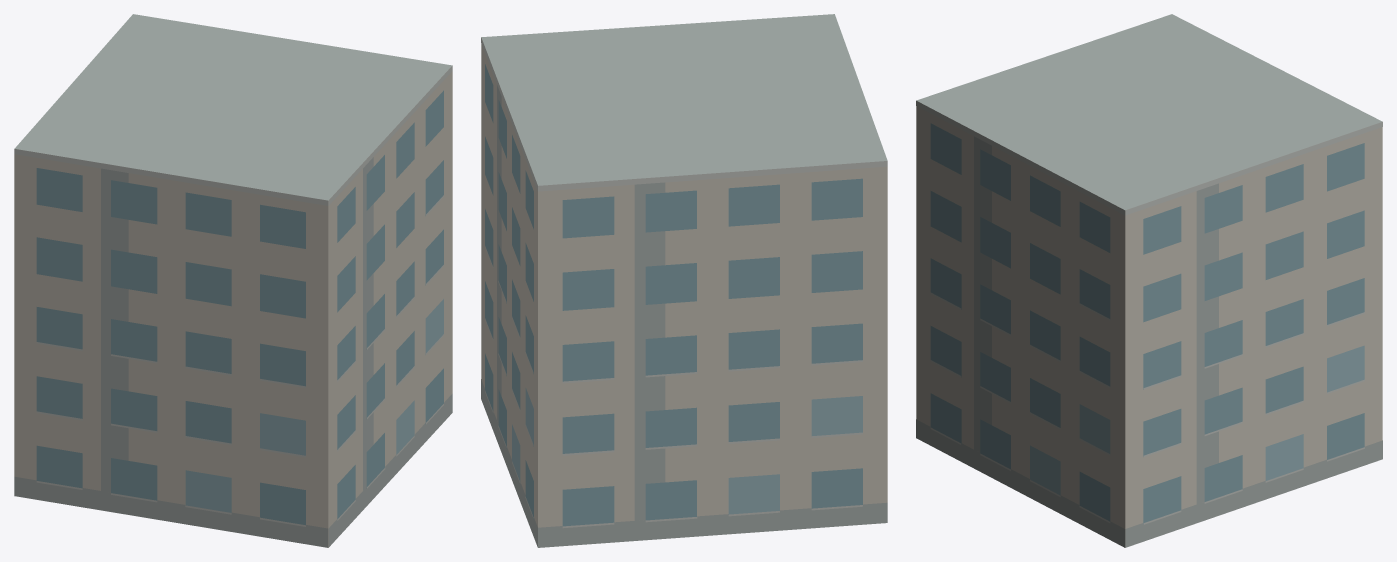
Rendered from survey-upis-32860592.glb.
3 renders of one model, left to right at view 1: azimuth 30°, elevation 25°; view 2: azimuth 150°, elevation 25°; view 3: azimuth 270°, elevation 25°, orthographic. The views are drawn at different scales.
Visible parts, largest first — view 1: survey-upis-32860592.tmp; view 2: survey-upis-32860592.tmp; view 3: survey-upis-32860592.tmp.
Boxes of the visible parts, x1=… form: survey-upis-32860592.tmp: x1=14, y1=14, x2=452, y2=547; survey-upis-32860592.tmp: x1=481, y1=14, x2=887, y2=547; survey-upis-32860592.tmp: x1=916, y1=14, x2=1382, y2=547.
Bounding box in the file's own units: 19.34 × 15.5 × 19.43.
